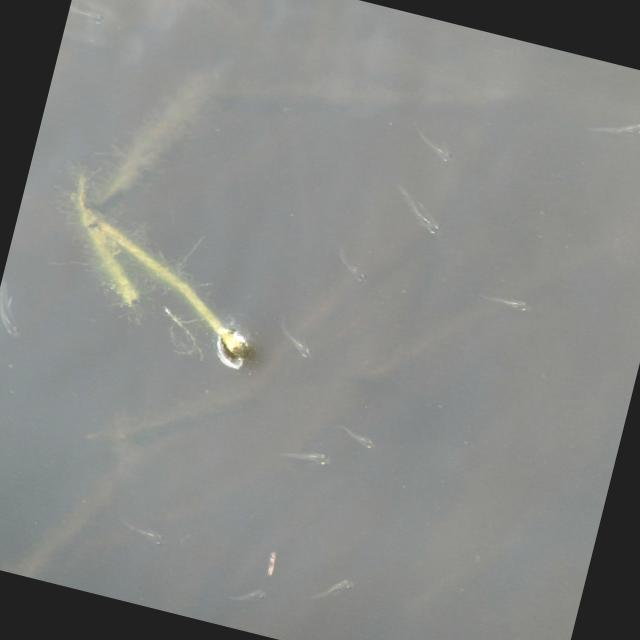Sivrisinek Baligi: (388, 180, 449, 235), (296, 565, 358, 611), (268, 317, 322, 363), (101, 513, 170, 548), (583, 106, 640, 145), (327, 246, 379, 286), (273, 439, 332, 472), (324, 423, 386, 453), (409, 130, 458, 166), (475, 287, 531, 316), (227, 581, 270, 615), (0, 448, 21, 506)
